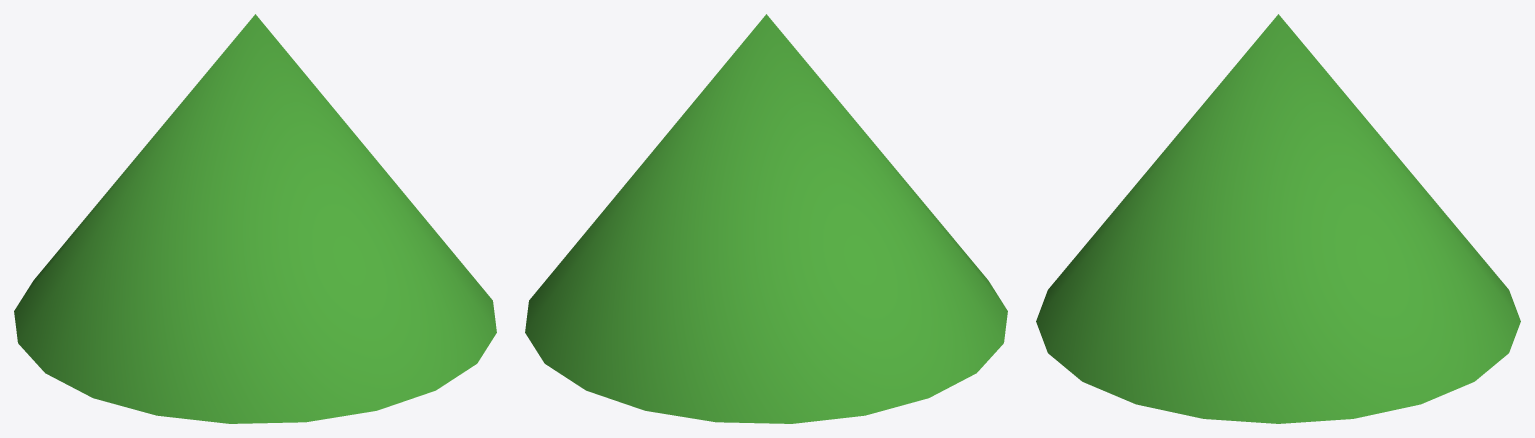
The picture shows the model from 3 angles, left to right: view 1: azimuth 30°, elevation 25°; view 2: azimuth 150°, elevation 25°; view 3: azimuth 270°, elevation 25°; orthographic projection.
Parts seen in each view (by area): view 1: pCone1; view 2: pCone1; view 3: pCone1.
Boxes of the visible parts, box(x1,y1,x2,y2) form: pCone1: box(14, 14, 496, 423); pCone1: box(525, 14, 1007, 423); pCone1: box(1036, 14, 1520, 423).
Size of the model in its own units: 5.49 by 3.84 by 5.49.
